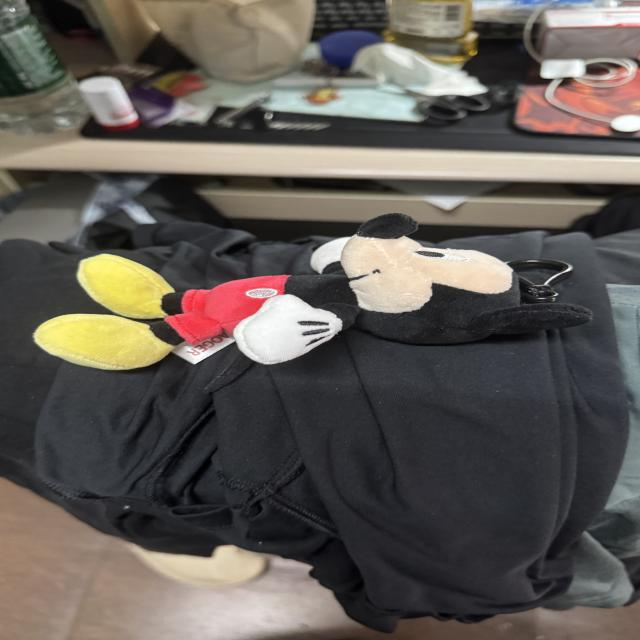mickey: (35, 214, 591, 370)
